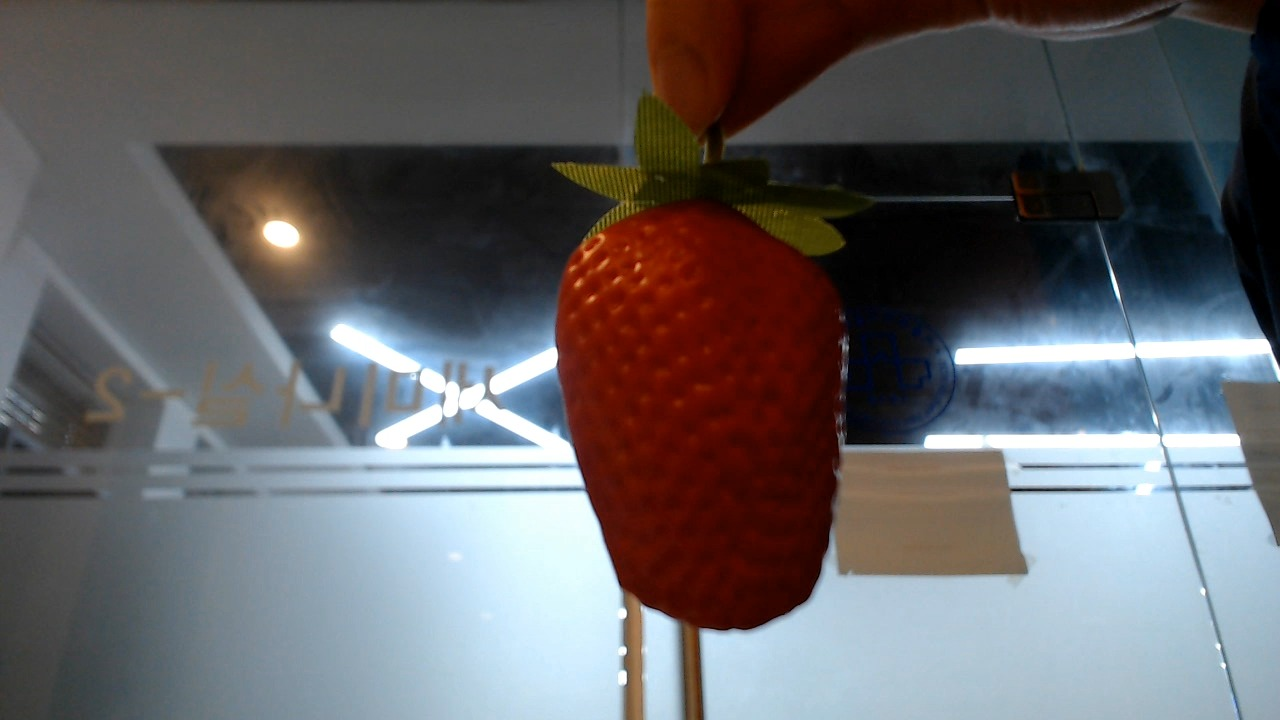strawberry: (546, 157, 855, 638)
